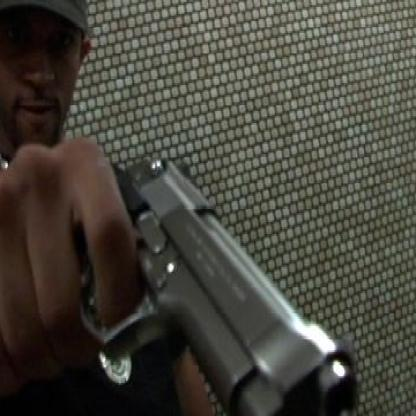gun: (0, 148, 362, 414)
